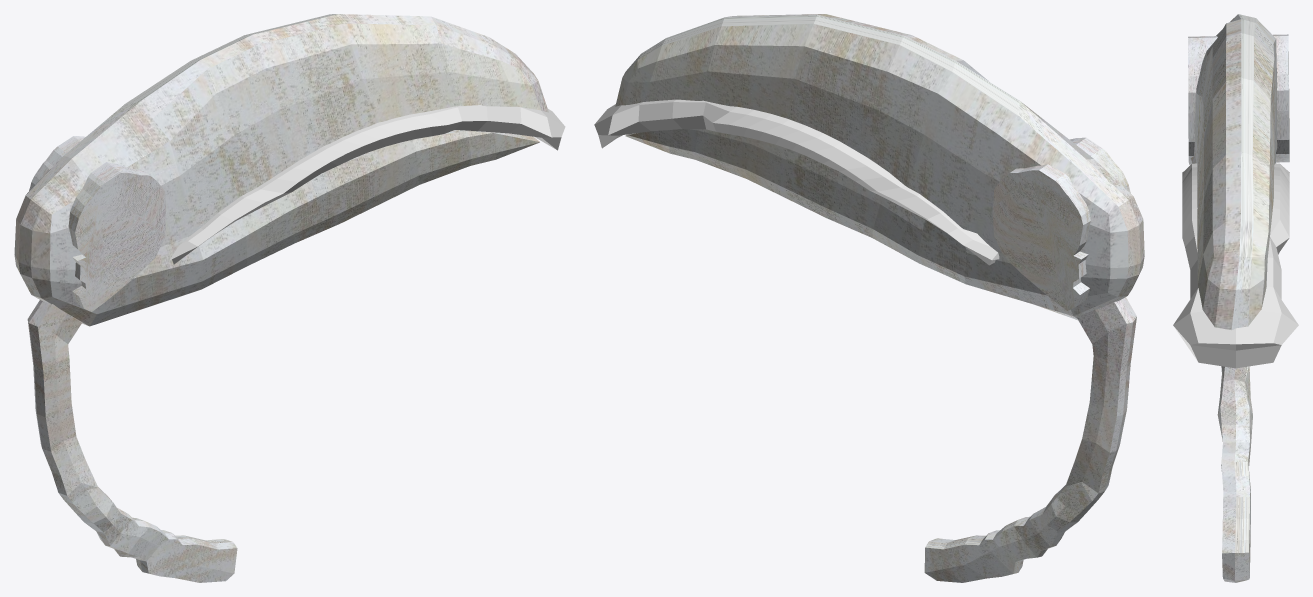
File: Tucanblend.fbx
The picture shows the model from 3 angles, left to right: view 1: azimuth 30°, elevation 25°; view 2: azimuth 150°, elevation 25°; view 3: azimuth 270°, elevation 25°; orthographic projection. The views are drawn at different scales.
Visible parts, largest first — view 1: Cabeza, Cylinder, Hueco; view 2: Cabeza, Cylinder, Hueco; view 3: Cabeza, Hueco, Cylinder.
Part boxes in pixels (box(x1,y1,x2,y2)): Cabeza: box(14, 14, 548, 582); Cylinder: box(29, 136, 165, 311); Hueco: box(170, 105, 565, 264); Cabeza: box(615, 14, 1144, 582); Cylinder: box(992, 137, 1130, 310); Hueco: box(594, 99, 999, 265); Cabeza: box(1190, 14, 1277, 582); Hueco: box(1173, 163, 1298, 368); Cylinder: box(1188, 34, 1289, 164).
Bounding box in the file's own units: 351 × 337 × 67.63.
